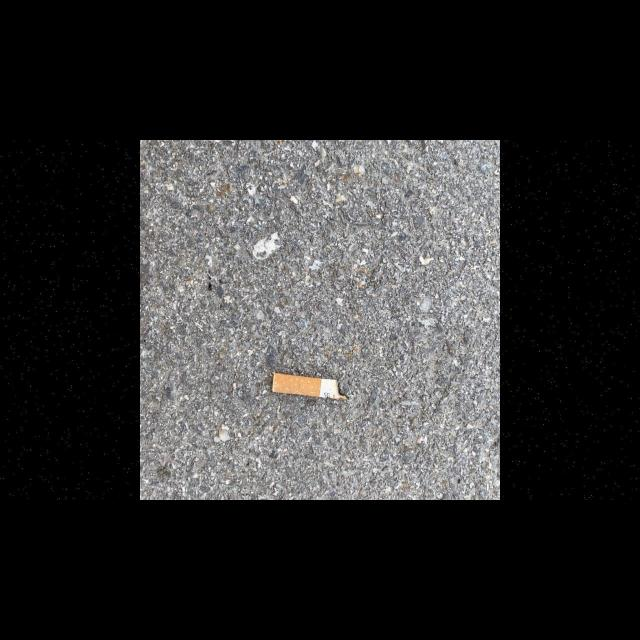cigarette: (272, 372, 349, 400)
